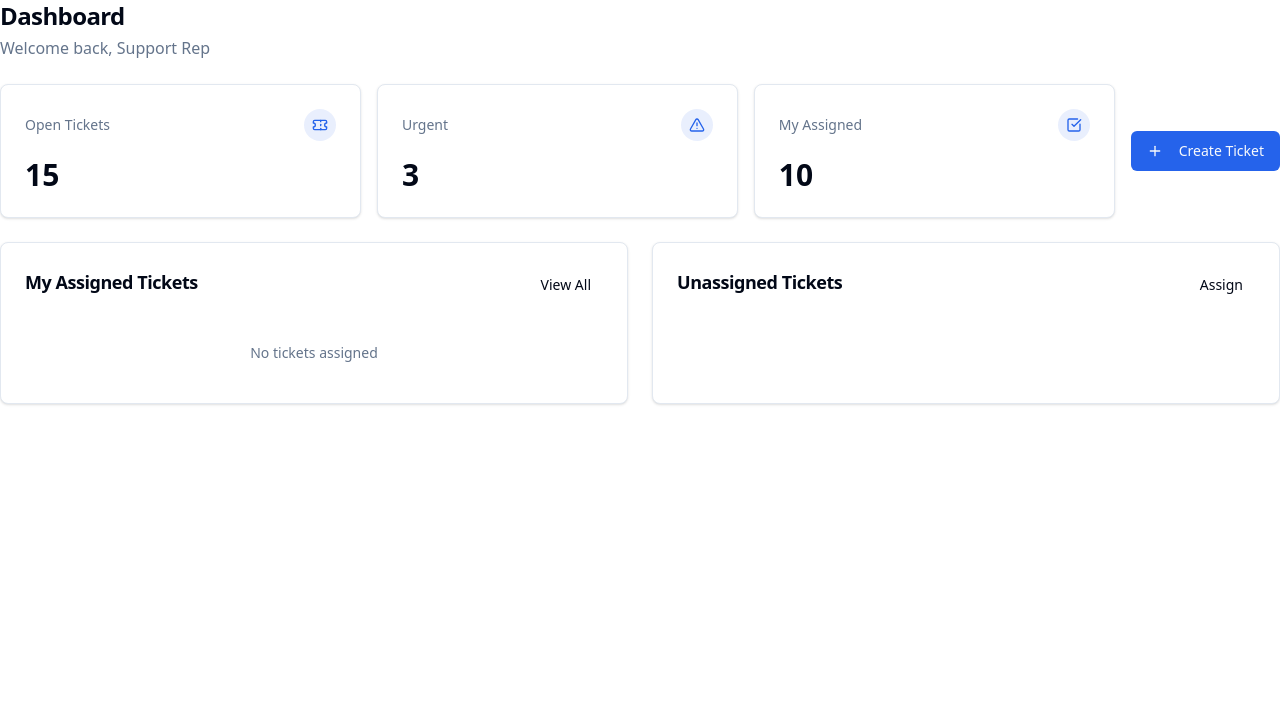
Test case: Dashboard › Ticket Creation Feature › Support Dashboard - Create Ticket Button › should close dialog when Cancel is clicked
The width and height of the screenshot is (1280, 720).
Click the button "Create Ticket" at (1205, 151), box [1131, 131, 1279, 171]
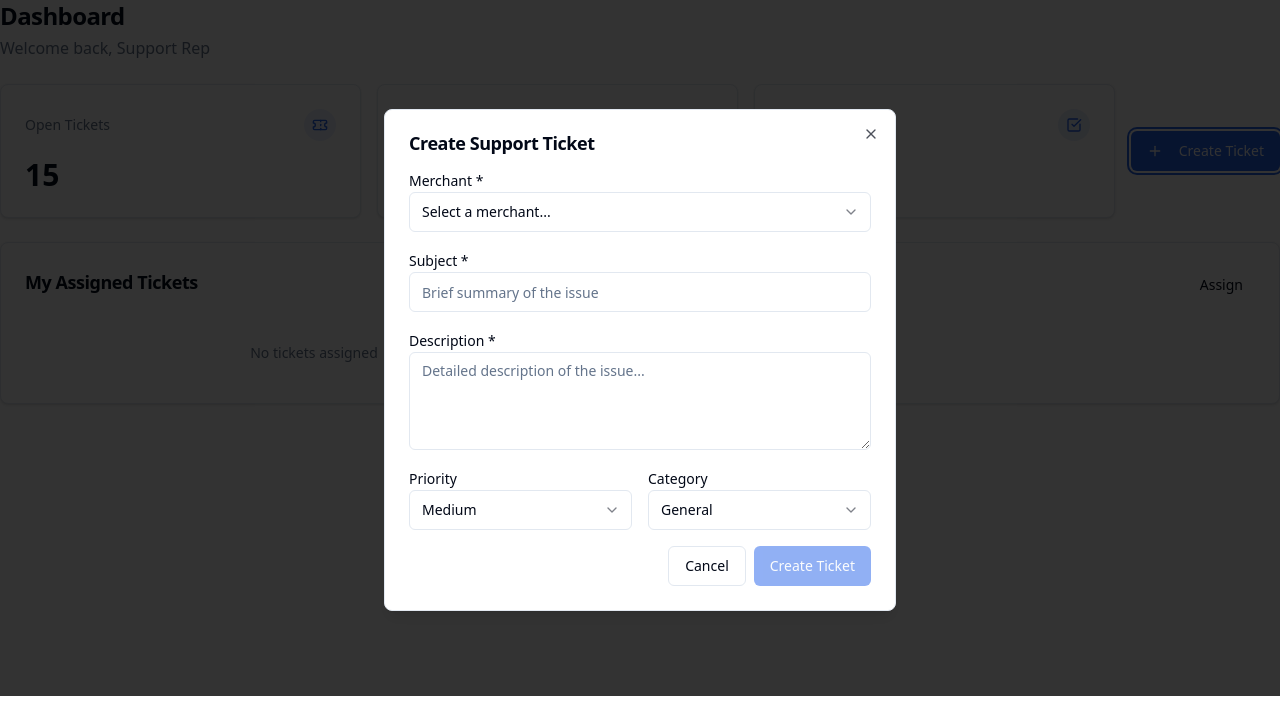
Expected: the heading "Create Support Ticket" is shown, [409, 131, 595, 155]
Click the button "Cancel" at (707, 566), box [668, 546, 746, 586]
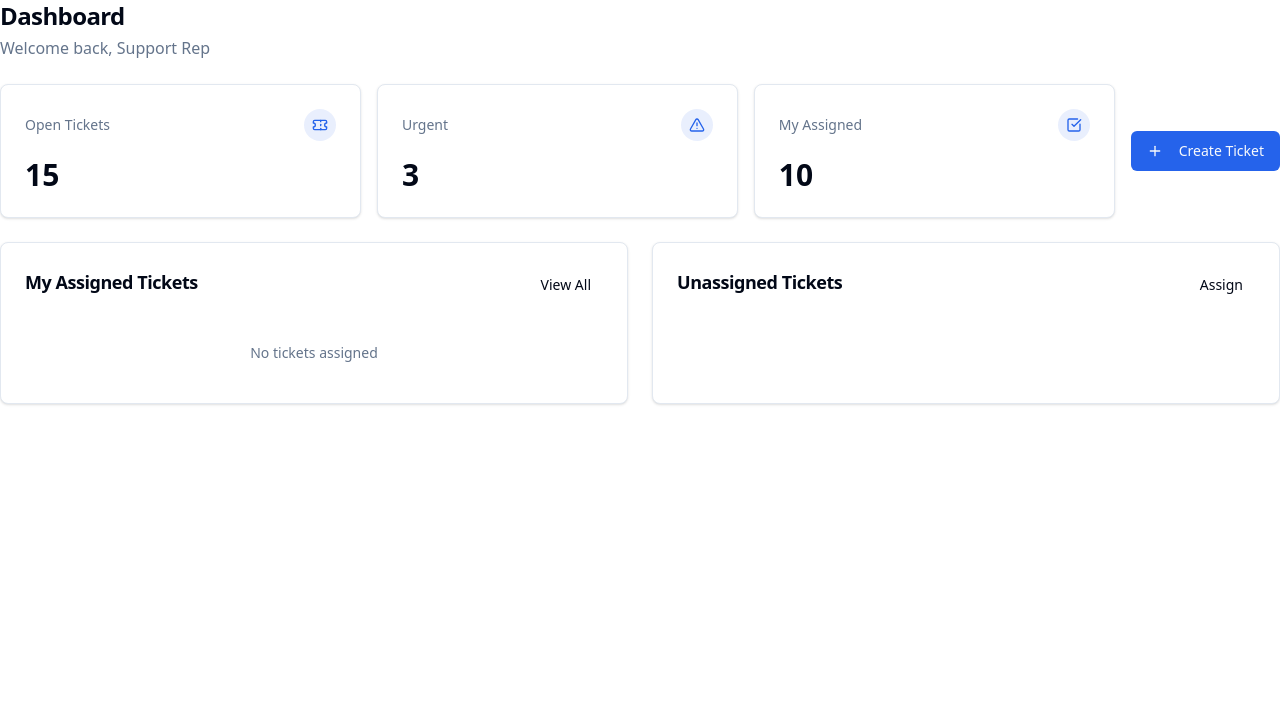
Expected: the heading "Create Support Ticket" is gone
